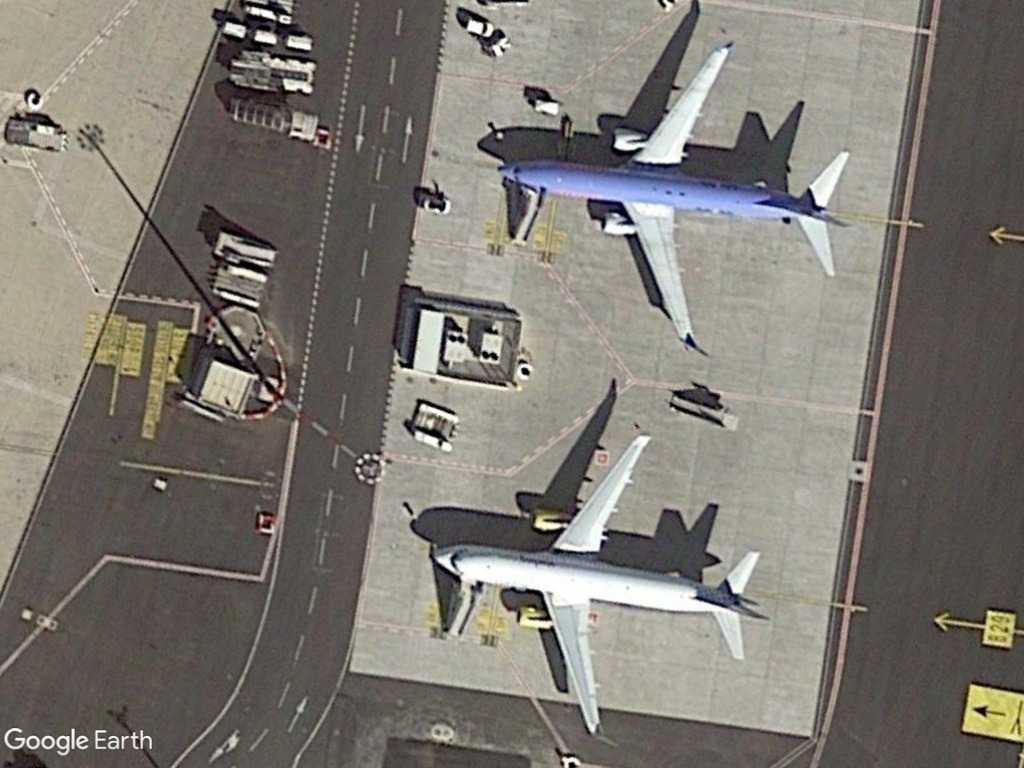airliner: (489, 33, 855, 352), (423, 420, 779, 741)
